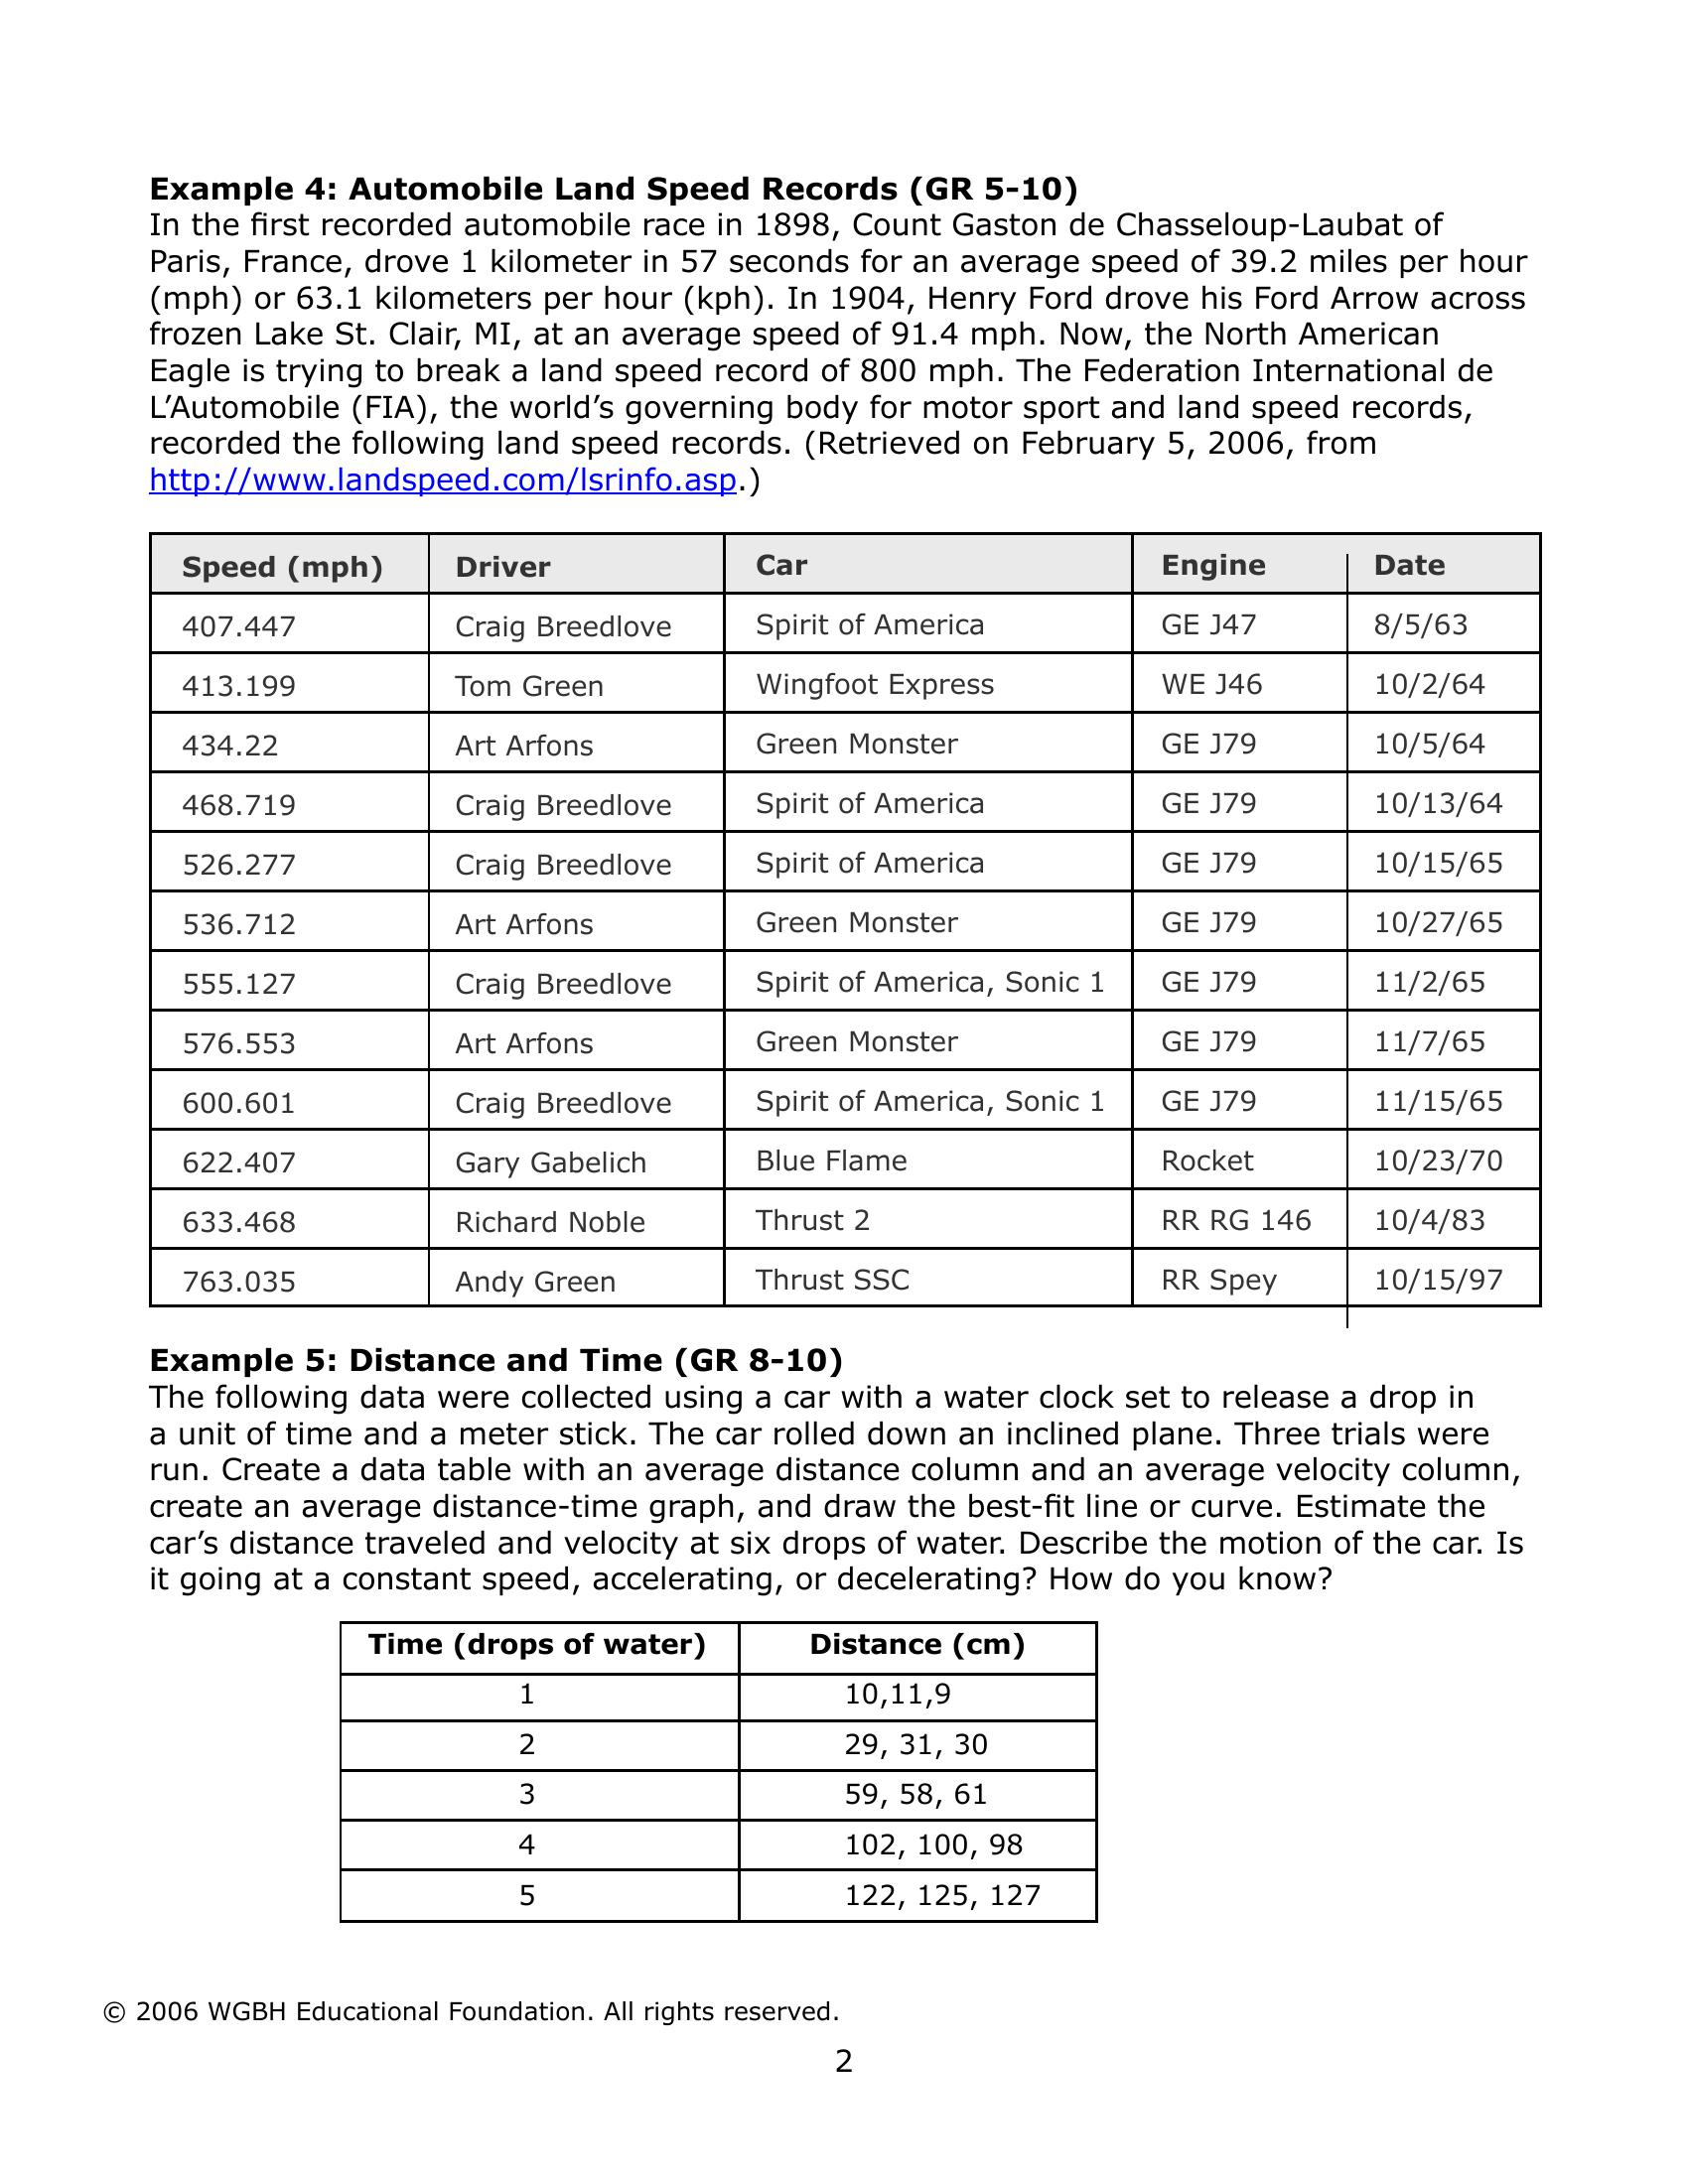table: (144, 532, 1544, 1314), (335, 1617, 1099, 1922)
